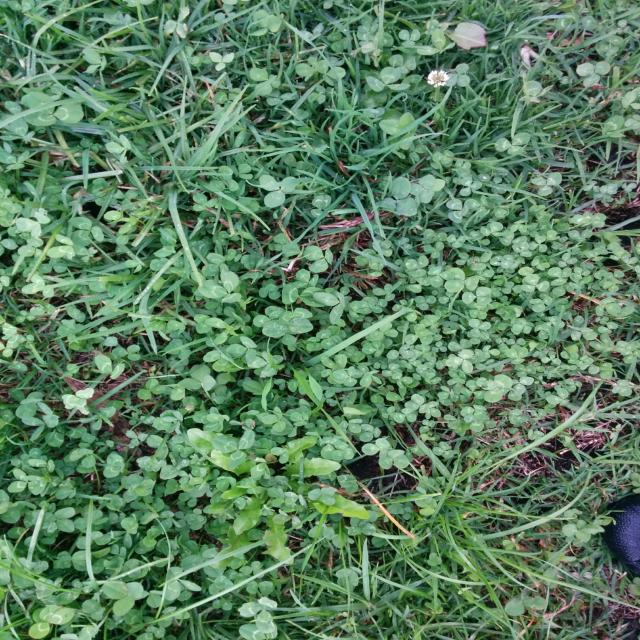Four Leaf Clover: (409, 174, 445, 203)
